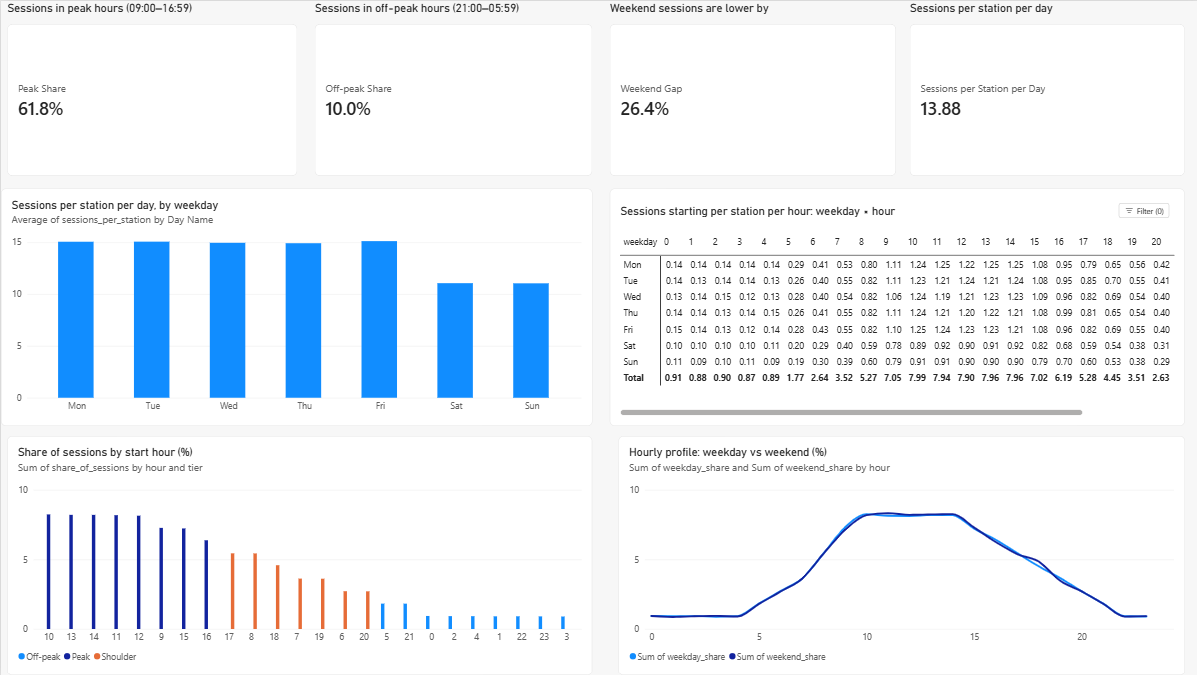

This screenshot's page, from the dashboard's own definition file:
{"tool":"powerbi","page":{"name":"Hourly & Weekly Demand","canvas":[1920,1080],"ordinal":0},"visuals":[{"type":"cardVisual","title":"Sessions in peak hours (09:00–16:59)","fields":{"Data":["Measures (2).Peak Share"]},"box":[10,0,464,280],"z":0},{"type":"cardVisual","title":"Sessions in off-peak hours (21:00–05:59)","fields":{"Data":["Measures (2).Off-peak Share"]},"box":[502,0,444,280],"z":1},{"type":"cardVisual","title":"Weekend sessions are lower by","fields":{"Data":["Measures (2).Weekend Gap"]},"box":[974,0,458,280],"z":2},{"type":"cardVisual","title":"Sessions per station per day","fields":{"Data":["Measures (2).Sessions per Station per Day"]},"box":[1454,0,440,280],"z":3},{"type":"clusteredColumnChart","title":"Share of sessions by start hour (%)","fields":{"Category":["hourly_demand.hour"],"Series":["hourly_demand.tier"],"Y":["Sum(hourly_demand.share_of_sessions)"]},"box":[10,696,936,384],"z":4},{"type":"lineChart","title":"Hourly profile: weekday vs weekend (%)","fields":{"Category":["hourly_demand.hour"],"Y":["Sum(hourly_demand.weekday_share)","Sum(hourly_demand.weekend_share)"]},"box":[988,696,906,384],"z":5},{"type":"clusteredColumnChart","title":"Sessions per station per day, by weekday","fields":{"Category":["daily_demand.Day Name"],"Y":["Avg(daily_demand.sessions_per_station)"]},"box":[0,300,946,380],"z":6},{"type":"pivotTable","title":"Sessions starting per station per hour: weekday × hour","fields":{"Columns":["weekday_hour_demand.hour"],"Rows":["weekday_hour_demand.weekday"],"Values":["Sum(weekday_hour_demand.sessions_per_station_hour)"]},"box":[974,300,920,380],"z":7}]}

Visuals, with their boxes in screenshot pixels (x1, y1, x2, y2), scaled from the page's 1920x1080 canvas onto the 1197x675 screenshot:
"Sessions in peak hours (09:00–16:59)" cardVisual: crop(6, 0, 296, 175)
"Sessions in off-peak hours (21:00–05:59)" cardVisual: crop(313, 0, 590, 175)
"Weekend sessions are lower by" cardVisual: crop(607, 0, 893, 175)
"Sessions per station per day" cardVisual: crop(906, 0, 1181, 175)
"Share of sessions by start hour (%)" clusteredColumnChart: crop(6, 435, 590, 674)
"Hourly profile: weekday vs weekend (%)" lineChart: crop(616, 435, 1181, 674)
"Sessions per station per day, by weekday" clusteredColumnChart: crop(0, 188, 590, 425)
"Sessions starting per station per hour: weekday × hour" pivotTable: crop(607, 188, 1181, 425)
